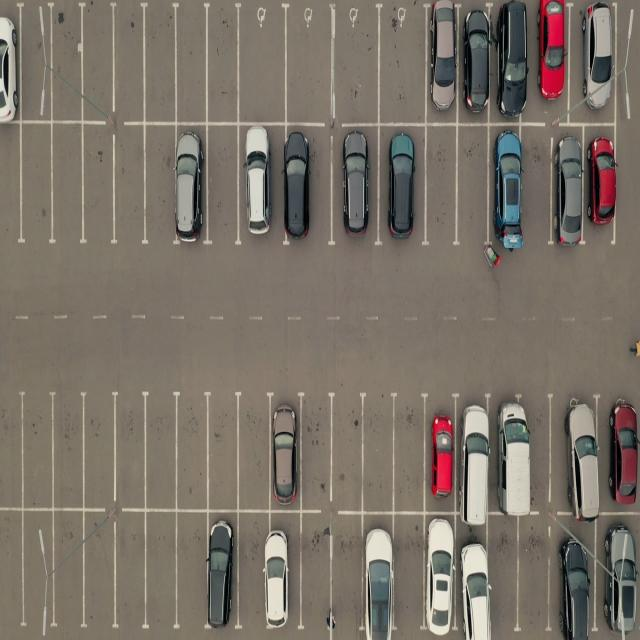space-empty: (375, 5, 425, 125), (238, 5, 288, 123), (286, 7, 336, 124), (332, 6, 380, 124), (45, 512, 87, 630), (46, 4, 85, 122), (15, 127, 53, 247), (141, 4, 179, 123), (204, 5, 242, 123), (78, 391, 116, 508), (142, 393, 180, 509), (16, 396, 54, 512), (518, 515, 556, 631), (175, 4, 212, 123), (49, 128, 86, 247), (176, 394, 214, 509), (112, 396, 150, 511), (205, 125, 242, 243), (78, 512, 115, 630), (77, 2, 114, 120), (17, 512, 54, 630), (78, 129, 115, 246), (111, 4, 148, 121), (49, 396, 86, 512), (142, 512, 178, 631), (331, 514, 366, 636), (328, 395, 366, 507), (392, 398, 429, 513), (358, 396, 395, 511), (112, 128, 148, 246), (457, 126, 492, 247), (237, 394, 274, 508), (205, 394, 241, 510), (115, 512, 150, 631), (141, 123, 176, 242), (423, 123, 457, 243), (235, 512, 269, 632), (296, 395, 332, 508), (15, 4, 50, 120), (394, 514, 427, 636), (296, 514, 330, 632), (486, 516, 519, 636), (177, 512, 210, 631), (523, 125, 554, 245), (0, 387, 24, 507), (0, 510, 24, 630), (0, 128, 22, 248)
space-occupied: (551, 394, 603, 514), (282, 128, 330, 247), (571, 0, 617, 121), (490, 395, 535, 517), (382, 122, 428, 240), (332, 128, 378, 245), (240, 124, 283, 246), (553, 520, 597, 636), (456, 392, 496, 513), (600, 518, 640, 636), (532, 0, 571, 119), (492, 1, 529, 122), (422, 514, 458, 637), (603, 398, 640, 515), (424, 6, 460, 124), (422, 394, 458, 512), (488, 126, 522, 248), (176, 127, 210, 247), (459, 518, 493, 638), (361, 514, 394, 637), (266, 512, 300, 631), (267, 393, 302, 508), (205, 510, 237, 630), (552, 127, 585, 243), (462, 8, 494, 124), (583, 127, 614, 237), (0, 3, 21, 124)
